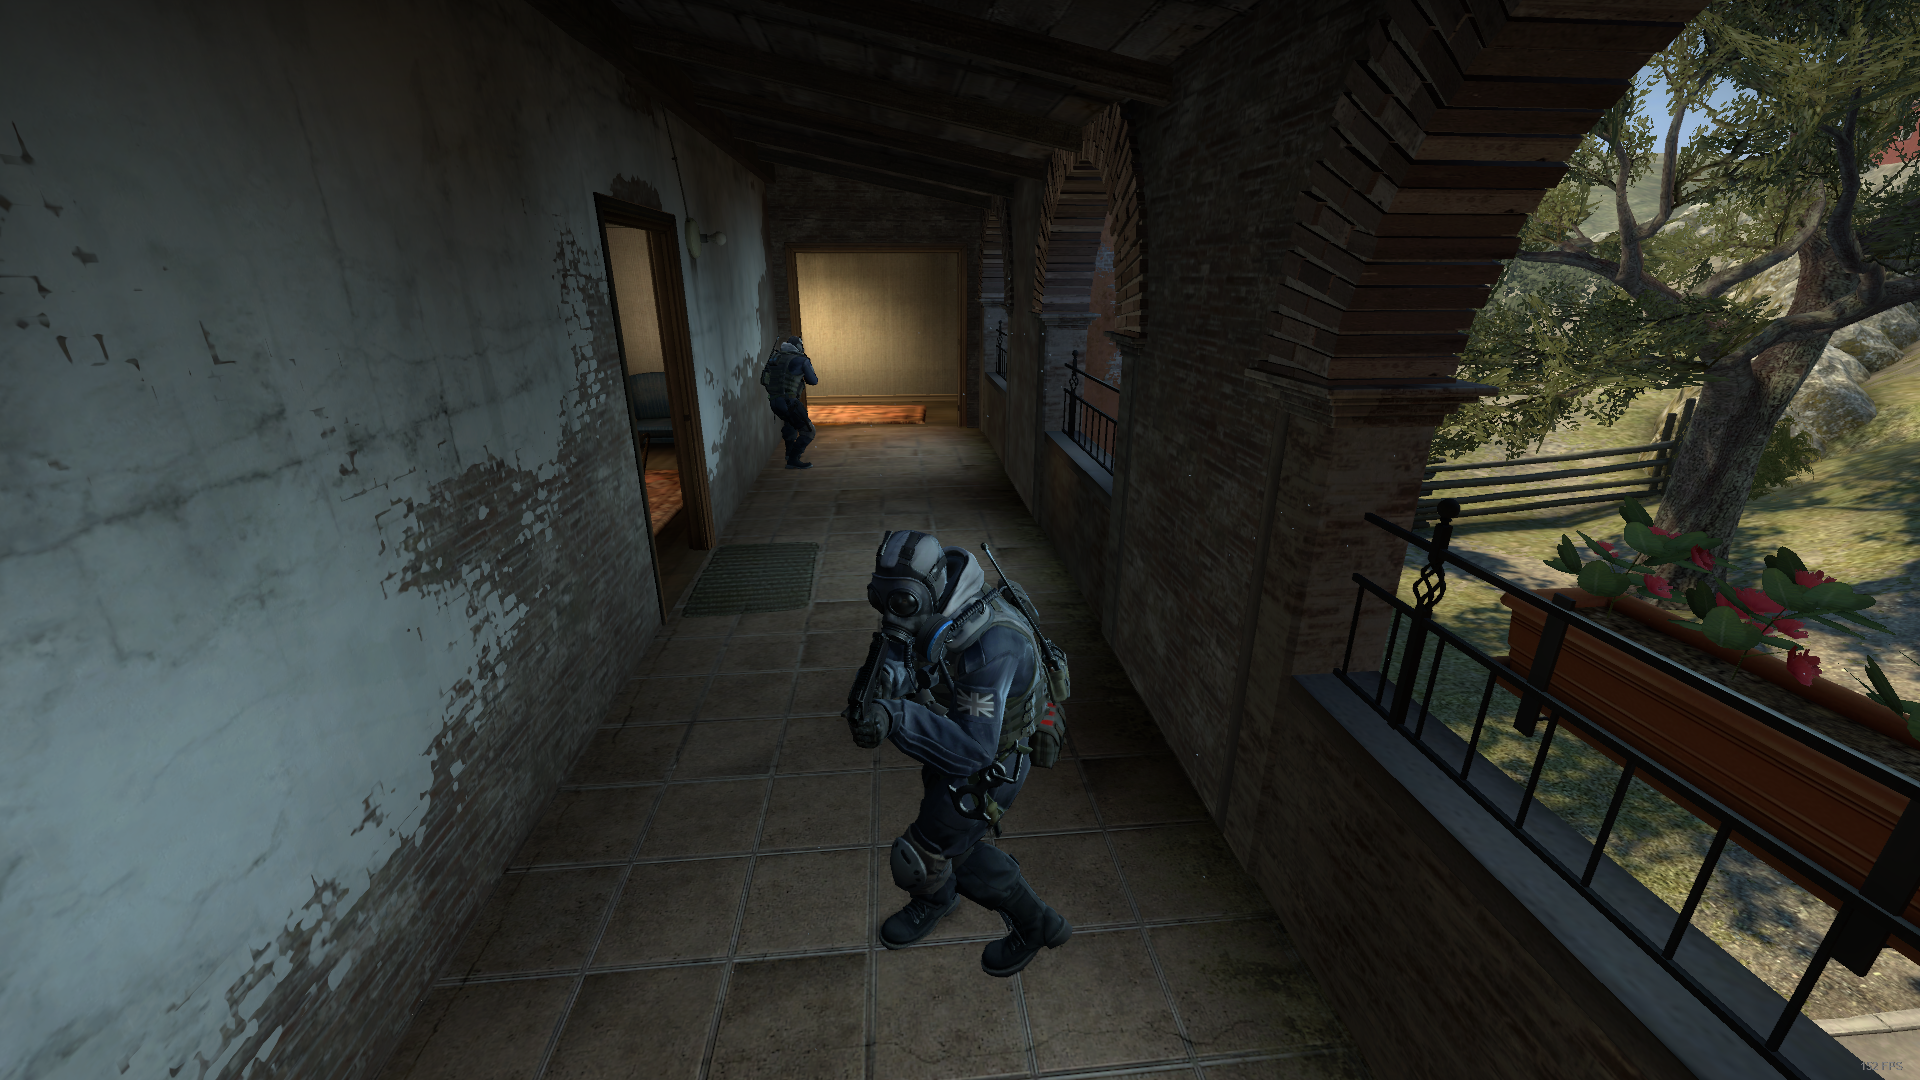ct: (825, 517, 1100, 1001), (756, 330, 829, 472)
